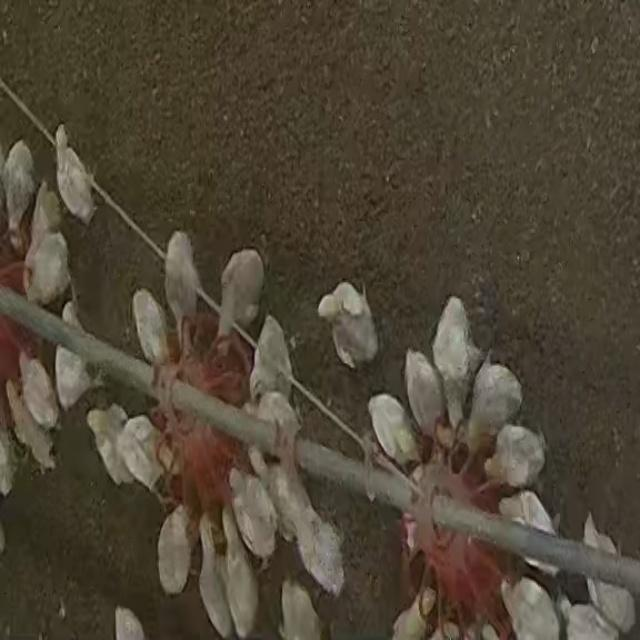chicken: (315, 272, 382, 375), (224, 462, 283, 572), (52, 299, 108, 413), (213, 246, 269, 356), (461, 359, 526, 448), (160, 225, 203, 358), (433, 290, 474, 429), (497, 492, 563, 578), (402, 344, 452, 453), (220, 510, 262, 634), (51, 121, 100, 227), (192, 511, 232, 640), (362, 392, 422, 473), (485, 422, 550, 492), (125, 284, 172, 364)
